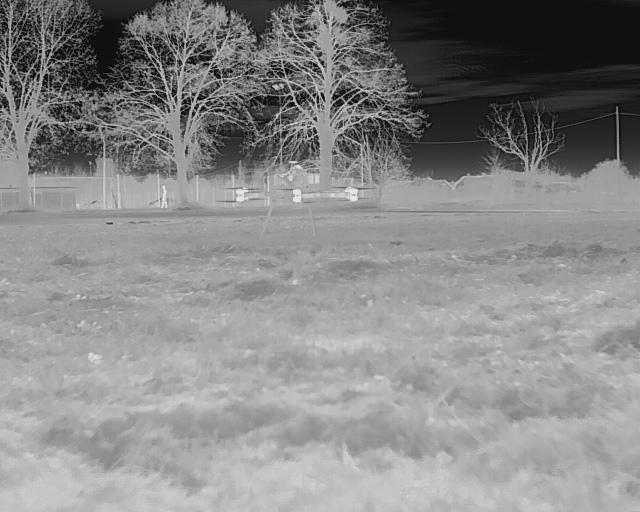drone: (212, 162, 383, 246)
